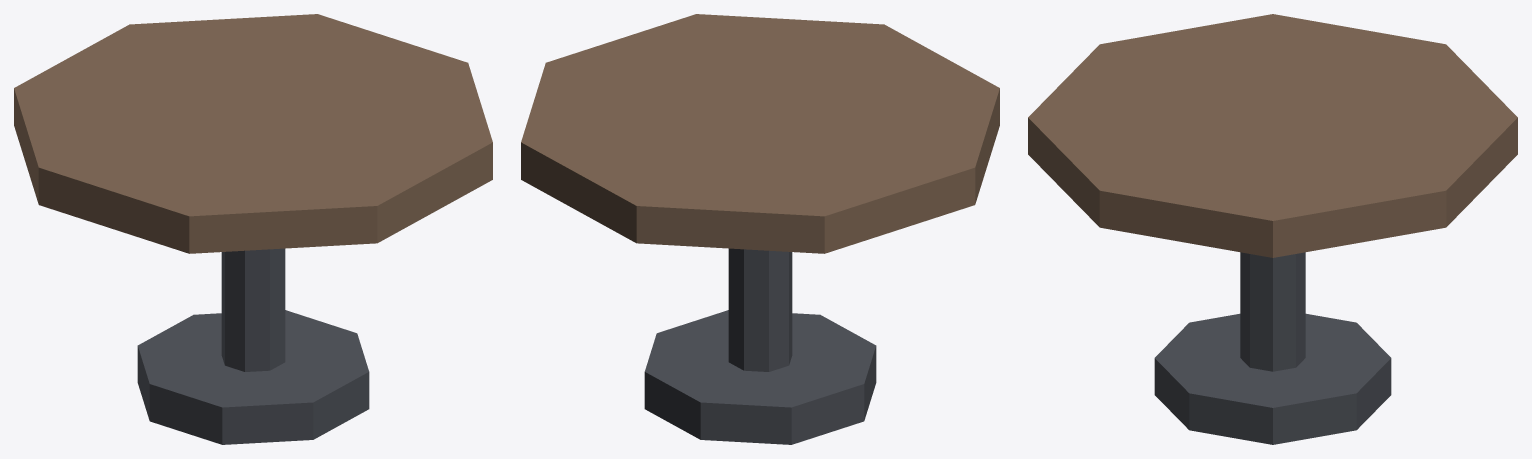
3 renders of one model, left to right at view 1: azimuth 30°, elevation 25°; view 2: azimuth 150°, elevation 25°; view 3: azimuth 270°, elevation 25°, orthographic.
Visible parts, largest first — view 1: Top, Base, Stem; view 2: Top, Base, Stem; view 3: Top, Base, Stem.
Part boxes in pixels (x1,y1,x2,y2): Top: (14,14,492,253); Base: (137,310,369,444); Stem: (221,248,285,371); Top: (521,14,999,253); Base: (644,310,876,444); Stem: (728,248,792,371); Top: (1028,14,1517,257); Base: (1154,313,1391,444); Stem: (1240,252,1305,371).
Bounding box in the file's own units: 1.2 × 0.75 × 1.2.
